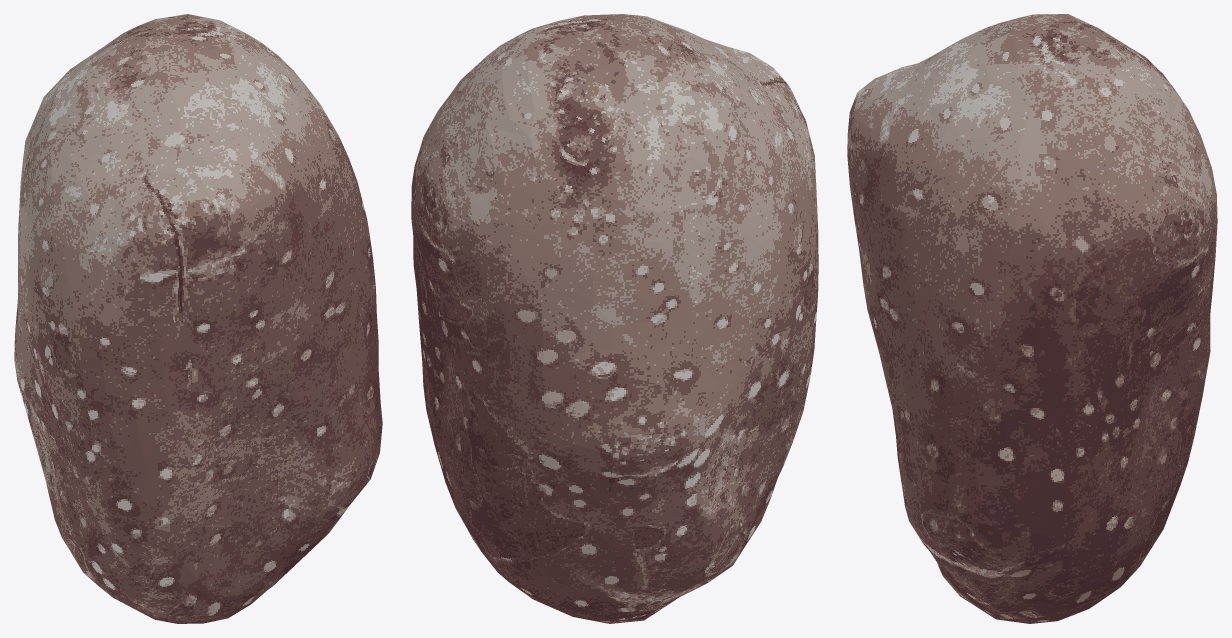
The model's file is imo.glb.
3 views of the same model, side by side, from view 1: azimuth 30°, elevation 25°; view 2: azimuth 150°, elevation 25°; view 3: azimuth 270°, elevation 25° (orthographic). The views are drawn at different scales.
Visible parts, largest first — view 1: model_m; view 2: model_m; view 3: model_m.
Part boxes in pixels (box(x1,y1,x2,y2)): model_m: box(14, 14, 382, 623); model_m: box(411, 14, 818, 623); model_m: box(847, 14, 1217, 623).
Bounding box in the file's own units: 33.95 × 55.51 × 32.
1 material, 1 textured.
